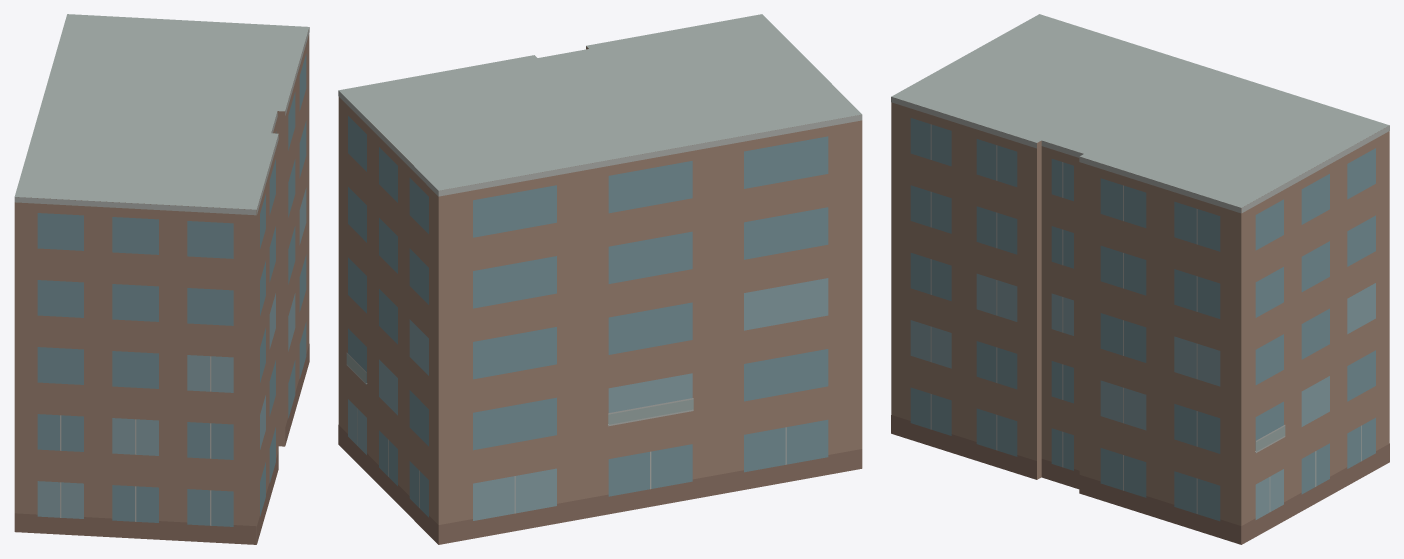
File: survey-upis-32609439.glb
3 views of the same model, side by side, from view 1: azimuth 30°, elevation 25°; view 2: azimuth 150°, elevation 25°; view 3: azimuth 270°, elevation 25° (orthographic). The views are drawn at different scales.
Visible parts, largest first — view 1: survey-upis-32609439.tmp; view 2: survey-upis-32609439.tmp; view 3: survey-upis-32609439.tmp.
Part boxes in pixels (left/top/right/bottom): survey-upis-32609439.tmp: left=14, top=14, right=309, bottom=544; survey-upis-32609439.tmp: left=338, top=14, right=862, bottom=544; survey-upis-32609439.tmp: left=891, top=14, right=1389, bottom=544.
Size of the model in its own units: 18.15 by 14.7 by 19.72.
